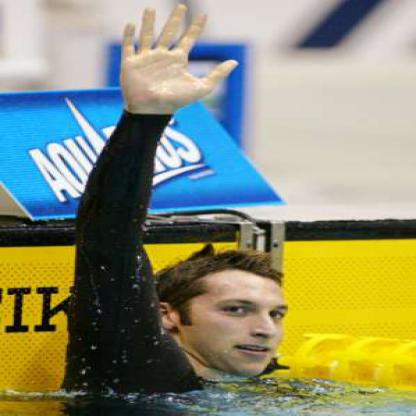face: (179, 261, 306, 378)
